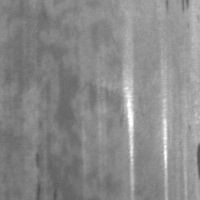scratches: (119, 52, 139, 197), (158, 88, 172, 198)
